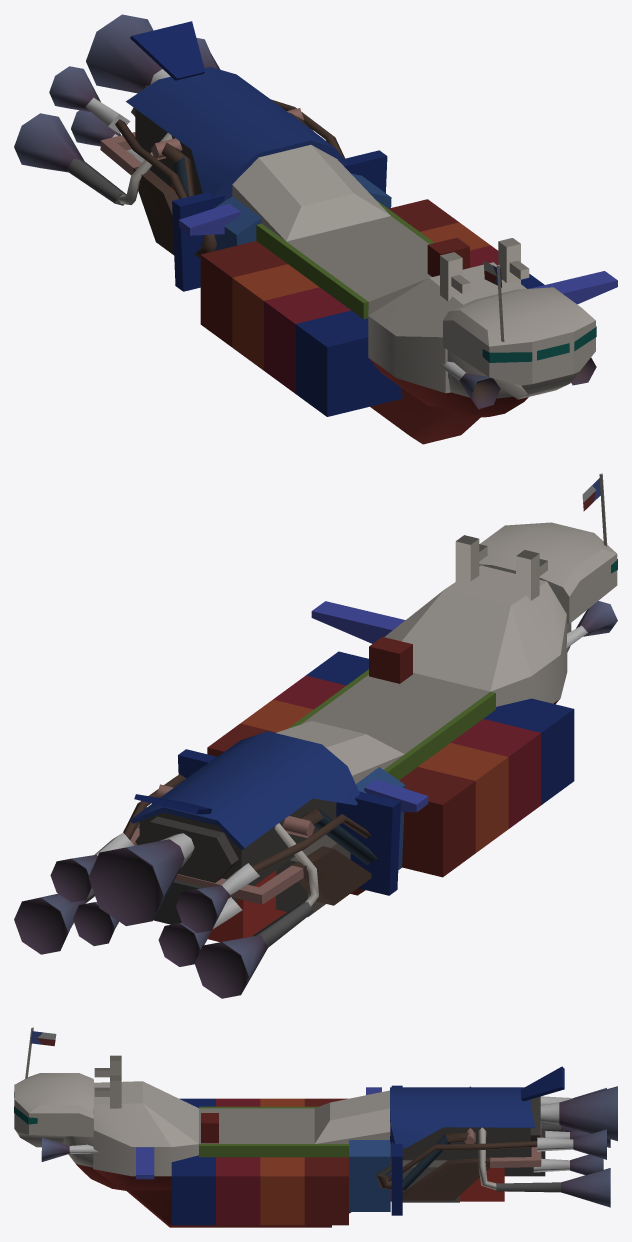
The model's file is MED_FBL_Packlite_LowRes_LOD1.fbx.
3 renders of one model, top to bottom at view 1: azimuth 30°, elevation 25°; view 2: azimuth 150°, elevation 25°; view 3: azimuth 270°, elevation 25°, orthographic. The views are drawn at different scales.
Visible parts, largest first — view 1: loc_med_fbl_packlite_lowres_LOD1; view 2: loc_med_fbl_packlite_lowres_LOD1; view 3: loc_med_fbl_packlite_lowres_LOD1.
Boxes of the visible parts, bbox=[...] form: loc_med_fbl_packlite_lowres_LOD1: bbox=[14, 14, 617, 444]; loc_med_fbl_packlite_lowres_LOD1: bbox=[14, 473, 617, 998]; loc_med_fbl_packlite_lowres_LOD1: bbox=[14, 1027, 617, 1227].
Size of the model in its own units: 20.64 by 19.01 by 58.1.
